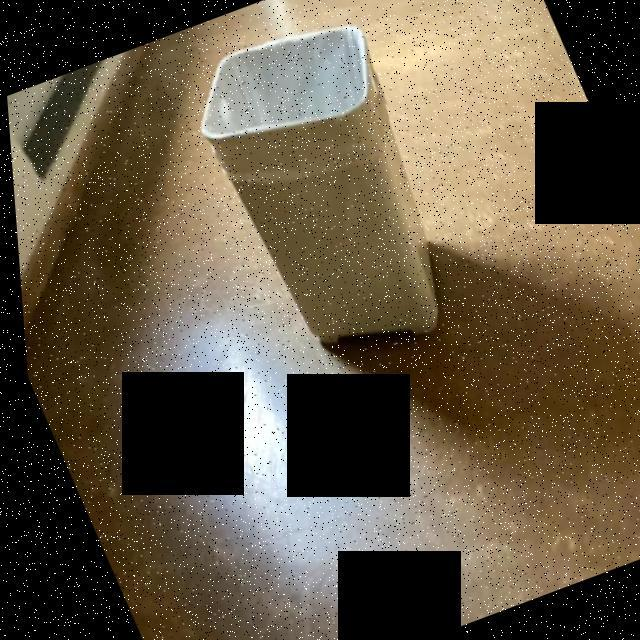bin: (142, 0, 509, 413)
